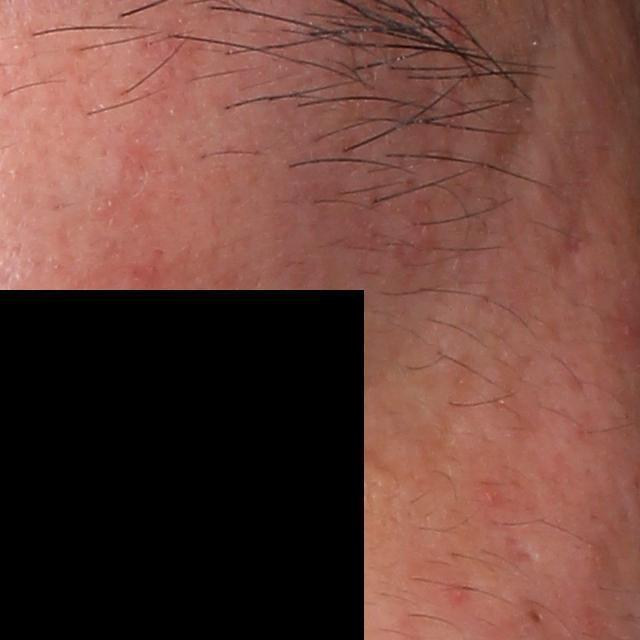atrophic_scar: (481, 6, 577, 178), (501, 536, 547, 564)
